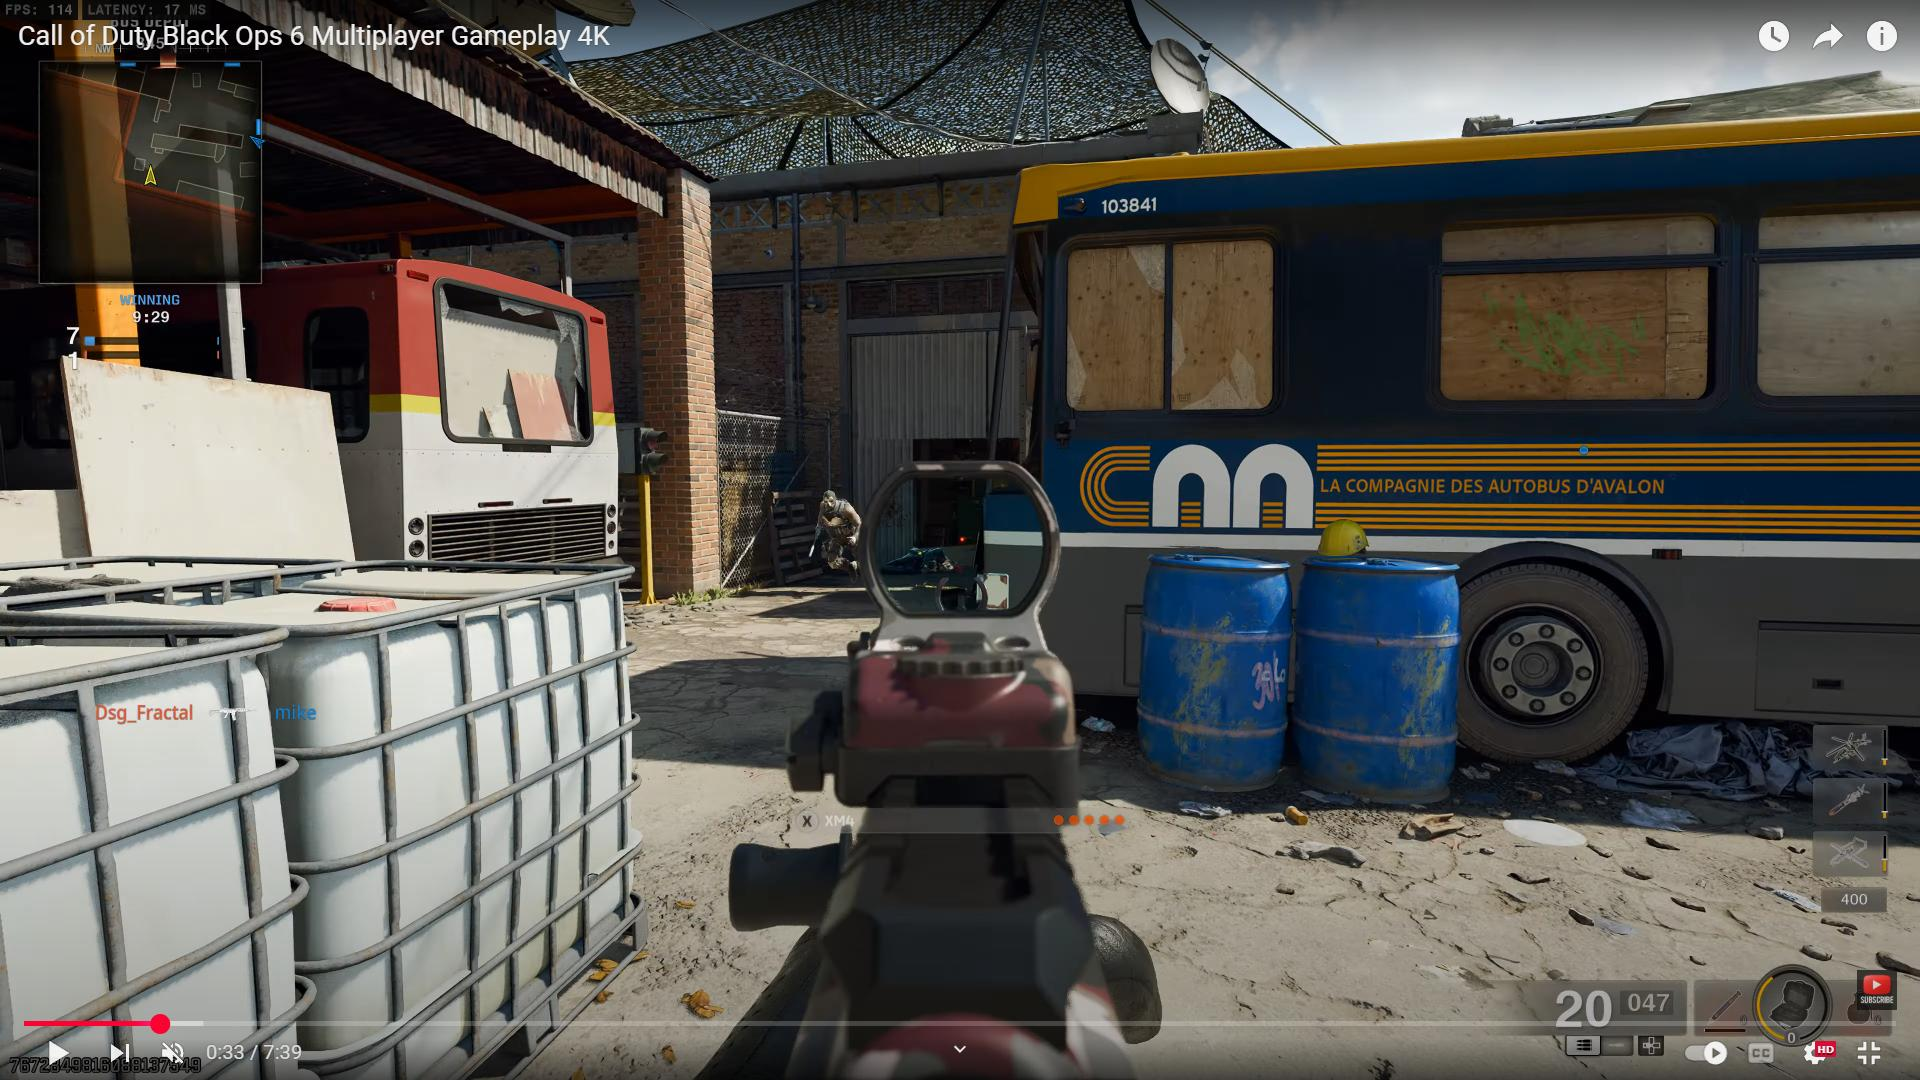Enemy: (795, 476, 865, 578)
